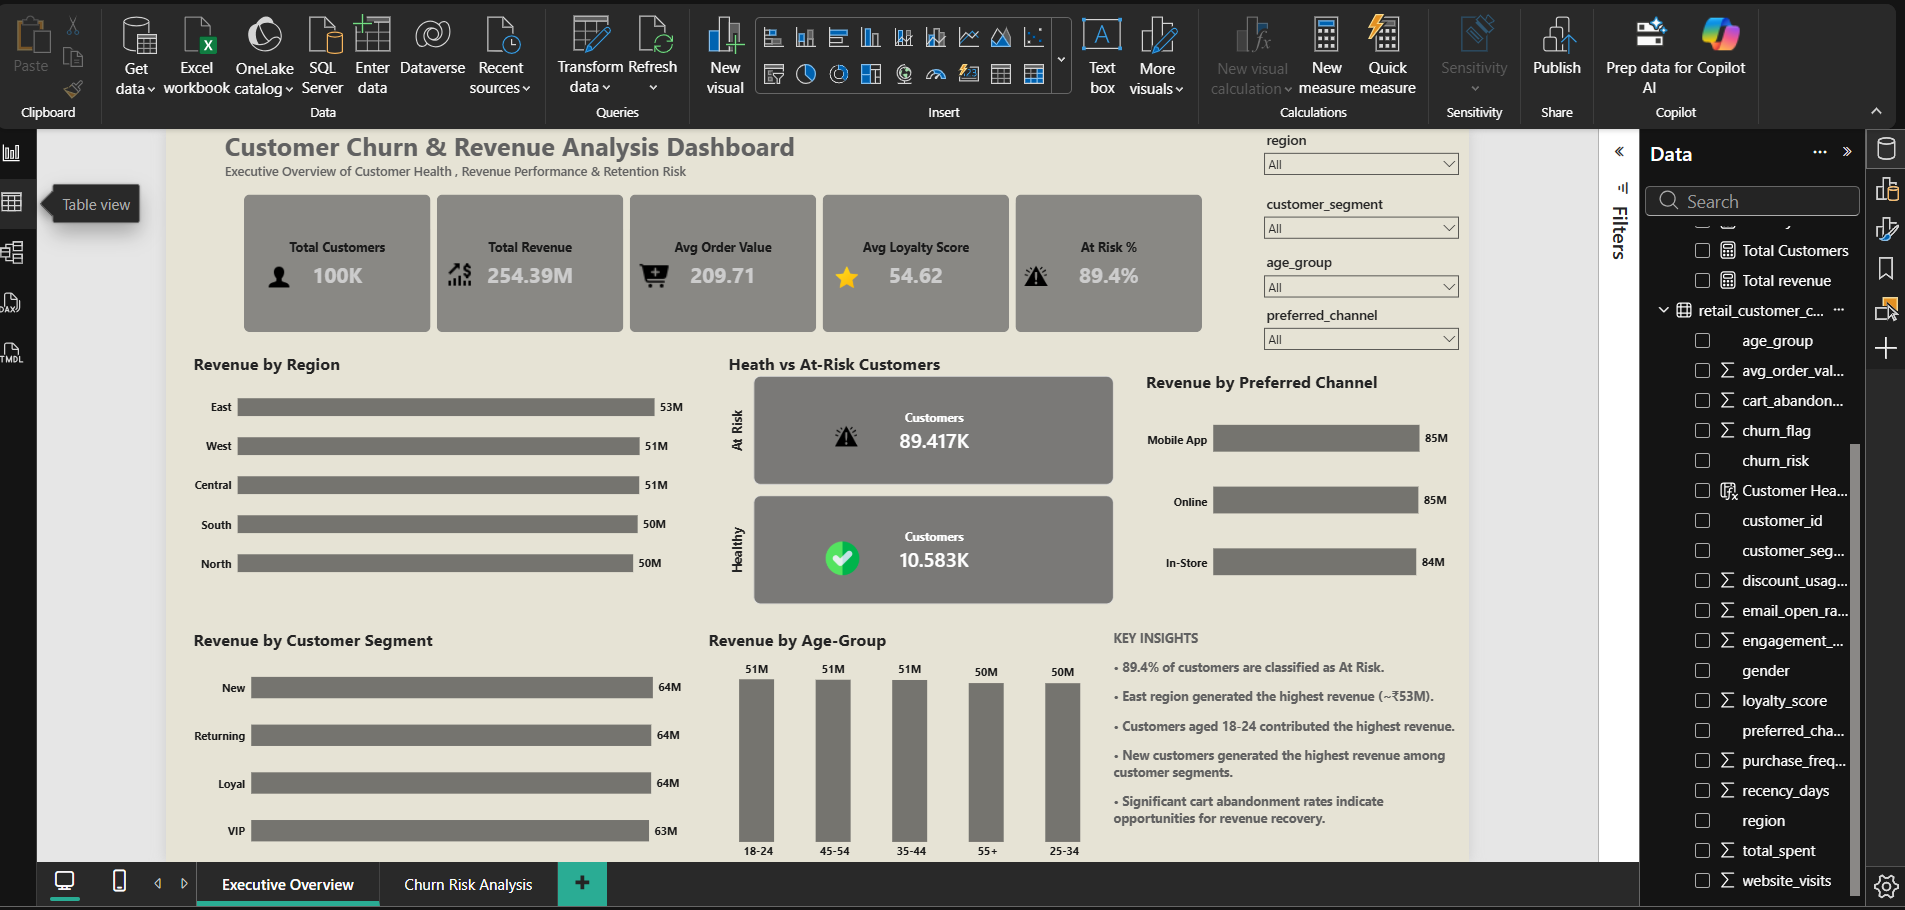

Layout of this report page (visuals, bound fields, positions):
{"tool":"powerbi","page":{"name":"Executive Overview","canvas":[1920,1080],"ordinal":0},"visuals":[{"type":"cardVisual","fields":{"Data":["measure.Total Customers","measure.Total revenue","measure.Avg order value","measure.Avg Loyalty Score","measure.At Risk %"]},"box":[114.1,95.7,1415.3,204.3],"z":0},{"type":"clusteredBarChart","title":"Revenue by Region","fields":{"Category":["retail_customer_churn_analysis.region"],"Y":["Sum(retail_customer_churn_analysis.total_spent)"]},"box":[41.1,328.9,740.1,348.4],"z":1000},{"type":"clusteredBarChart","title":"Revenue by Customer Segment","fields":{"Y":["Sum(retail_customer_churn_analysis.total_spent)"],"Category":["retail_customer_churn_analysis.customer_segment"]},"box":[41.1,735.8,740.1,344.1],"z":2000},{"type":"cardVisual","title":"Heath vs At-Risk Customers","fields":{"Rows":["retail_customer_churn_analysis.Customer Health"],"Data":["CountNonNull(retail_customer_churn_analysis.customer_id)"]},"box":[828.9,328.9,567,370.1],"z":3000},{"type":"columnChart","title":"Revenue by Age-Group","fields":{"Category":["retail_customer_churn_analysis.age_group"],"Y":["Sum(retail_customer_churn_analysis.total_spent)"]},"box":[798.6,735.8,597.3,344.1],"z":4000},{"type":"slicer","fields":{"Values":["retail_customer_churn_analysis.region"]},"box":[1612.7,2.2,296.5,80.1],"z":5000},{"type":"slicer","fields":{"Values":["retail_customer_churn_analysis.customer_segment"]},"box":[1612.7,95.2,296.5,80.1],"z":6000},{"type":"slicer","fields":{"Values":["retail_customer_churn_analysis.age_group"]},"box":[1612.7,181.8,296.5,80.1],"z":7000},{"type":"slicer","fields":{"Values":["retail_customer_churn_analysis.preferred_channel"]},"box":[1612.7,259.7,296.5,80.1],"z":8000},{"type":"textbox","box":[86.6,0,874.3,95.2],"z":9000},{"type":"image","box":[128.8,198.8,75.5,38.7],"z":10000},{"type":"image","box":[410.4,191.4,44.2,46],"z":11000},{"type":"image","box":[682.8,193.3,73.6,44.2],"z":12000},{"type":"image","box":[973.6,198.8,57.1,38.7],"z":13000},{"type":"image","box":[1229.5,198.8,103.1,38.7],"z":14000},{"type":"barChart","title":"Revenue by Preferred Channel","fields":{"Category":["retail_customer_churn_analysis.preferred_channel"],"Y":["Sum(retail_customer_churn_analysis.total_spent)"]},"box":[1443.5,354.9,465.3,344.1],"z":15000},{"type":"textbox","box":[1395.1,736.2,513.5,344.2],"z":16000},{"type":"image","box":[950.1,435,103.9,39],"z":17000},{"type":"image","box":[950.1,608.1,93.1,49.8],"z":18000}]}

Visuals, with their boxes on the page's 1920x1080 design canvas (x1, y1, x2, y2). These are canvas units, not pixel positions in the 1905x910 screenshot, which may show the page scaled, cropped or inside an application window:
cardVisual - measure.Total Customers x measure.Total revenue: bbox=(114, 96, 1529, 300)
"Revenue by Region" clusteredBarChart: bbox=(41, 329, 781, 677)
"Revenue by Customer Segment" clusteredBarChart: bbox=(41, 736, 781, 1080)
"Heath vs At-Risk Customers" cardVisual: bbox=(829, 329, 1396, 699)
"Revenue by Age-Group" columnChart: bbox=(799, 736, 1396, 1080)
slicer - retail_customer_churn_analysis.region: bbox=(1613, 2, 1909, 82)
slicer - retail_customer_churn_analysis.customer_segment: bbox=(1613, 95, 1909, 175)
slicer - retail_customer_churn_analysis.age_group: bbox=(1613, 182, 1909, 262)
slicer - retail_customer_churn_analysis.preferred_channel: bbox=(1613, 260, 1909, 340)
textbox: bbox=(87, 0, 961, 95)
image: bbox=(129, 199, 204, 238)
image: bbox=(410, 191, 455, 237)
image: bbox=(683, 193, 756, 238)
image: bbox=(974, 199, 1031, 238)
image: bbox=(1230, 199, 1333, 238)
"Revenue by Preferred Channel" barChart: bbox=(1444, 355, 1909, 699)
textbox: bbox=(1395, 736, 1909, 1080)
image: bbox=(950, 435, 1054, 474)
image: bbox=(950, 608, 1043, 658)
